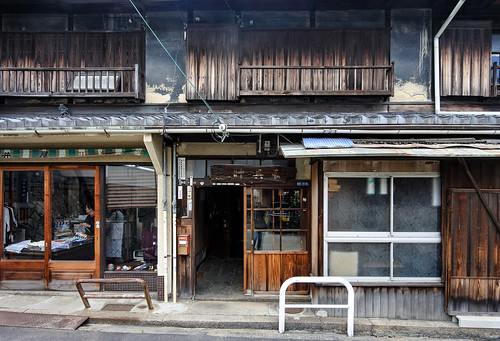building: (1, 3, 500, 322)
door: (194, 185, 244, 292), (46, 167, 96, 274)
